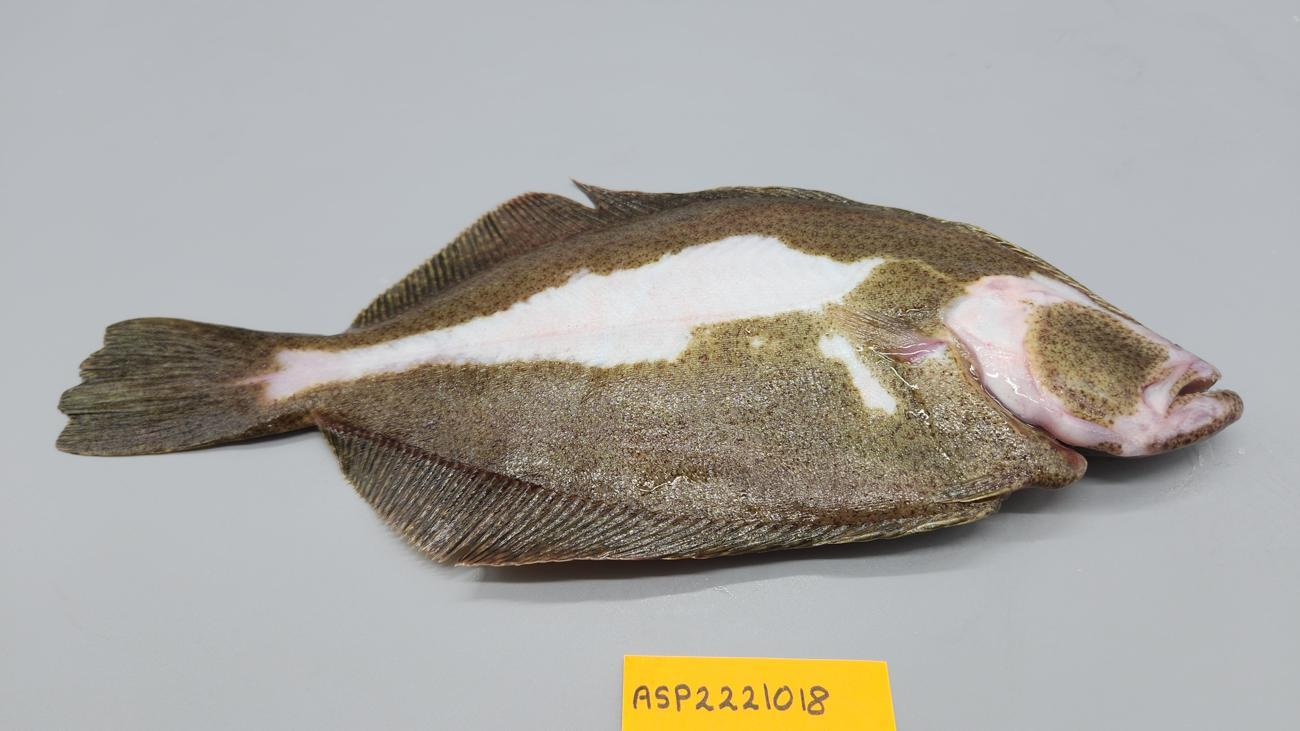SPFCH: (56, 317, 246, 457)
SPOUY: (43, 160, 1250, 582)
